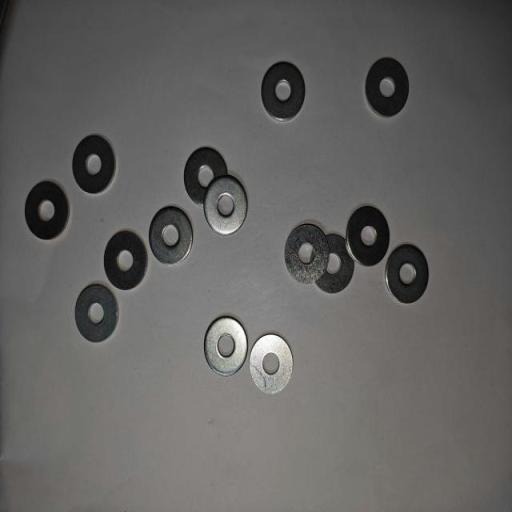washer: (364, 56, 410, 118), (260, 60, 306, 122), (72, 134, 118, 196), (248, 332, 294, 394), (103, 229, 149, 290), (202, 175, 248, 236), (284, 223, 330, 284), (25, 179, 70, 241), (74, 282, 119, 344), (345, 204, 390, 266), (182, 147, 228, 207), (148, 206, 193, 267), (384, 243, 429, 304), (203, 316, 248, 376), (314, 232, 354, 294)
